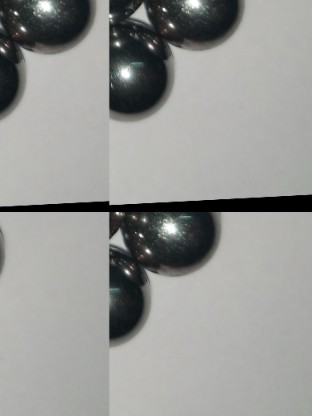ironball: (107, 11, 174, 120), (119, 208, 223, 274), (2, 0, 92, 59), (110, 240, 160, 346), (145, 0, 252, 48), (0, 31, 26, 124)
